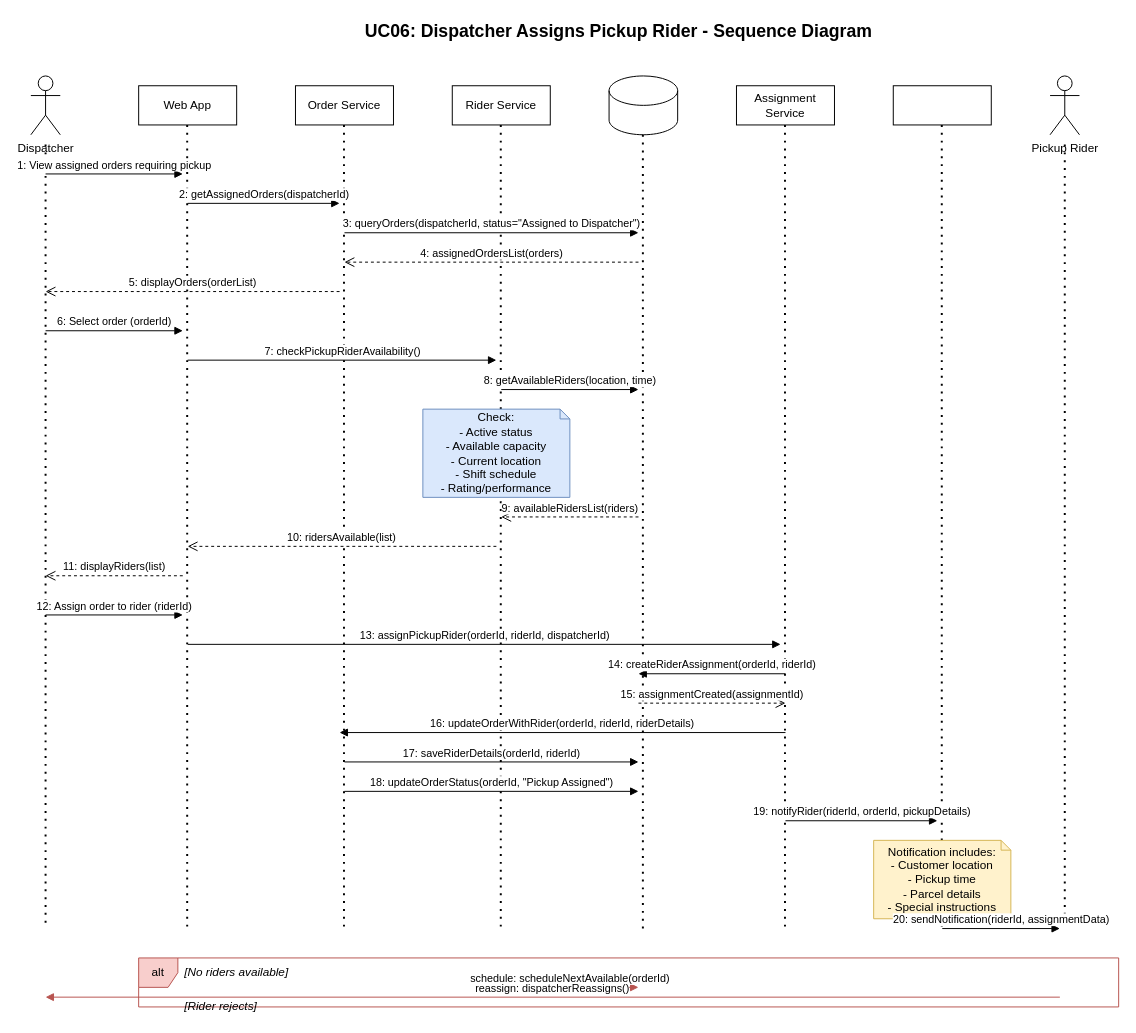
Image size: 1136x1033. Some labels were removed from this diagram. The centre of each missing label's shape, as x and y in pixels:
"Database" goes at point (643, 105).
"Notification Service" goes at point (941, 105).
